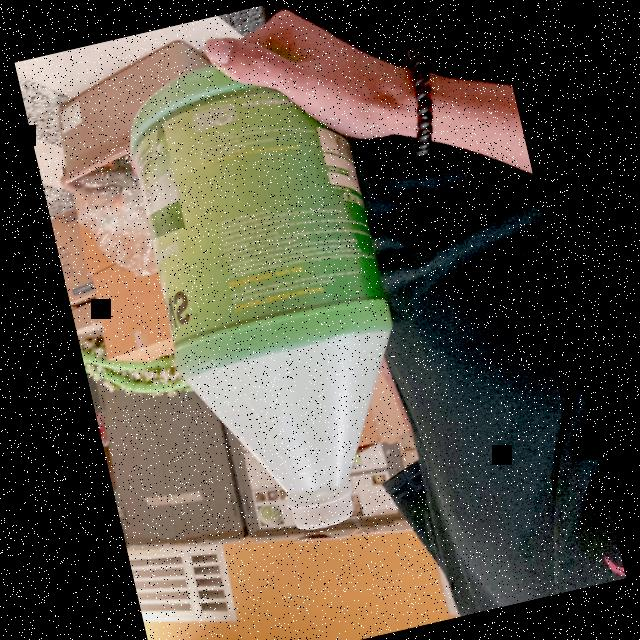chemical_plastic_gallon: (110, 28, 443, 556)
